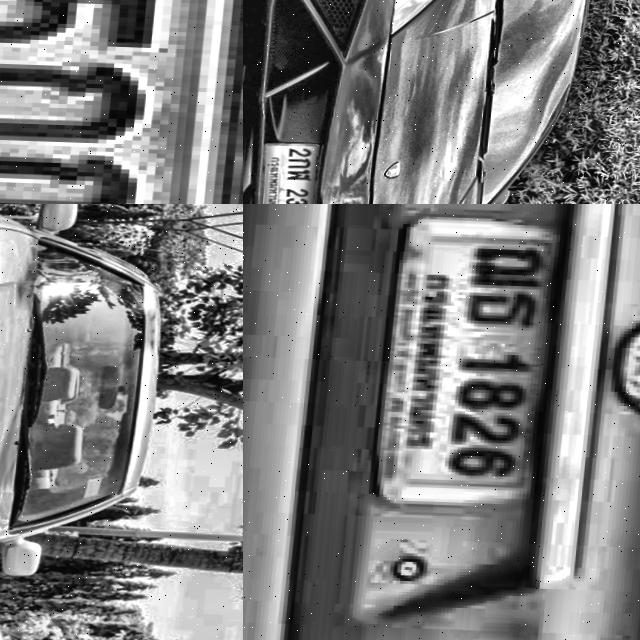license-plate: (370, 208, 590, 518), (0, 0, 243, 204), (256, 139, 334, 204)
